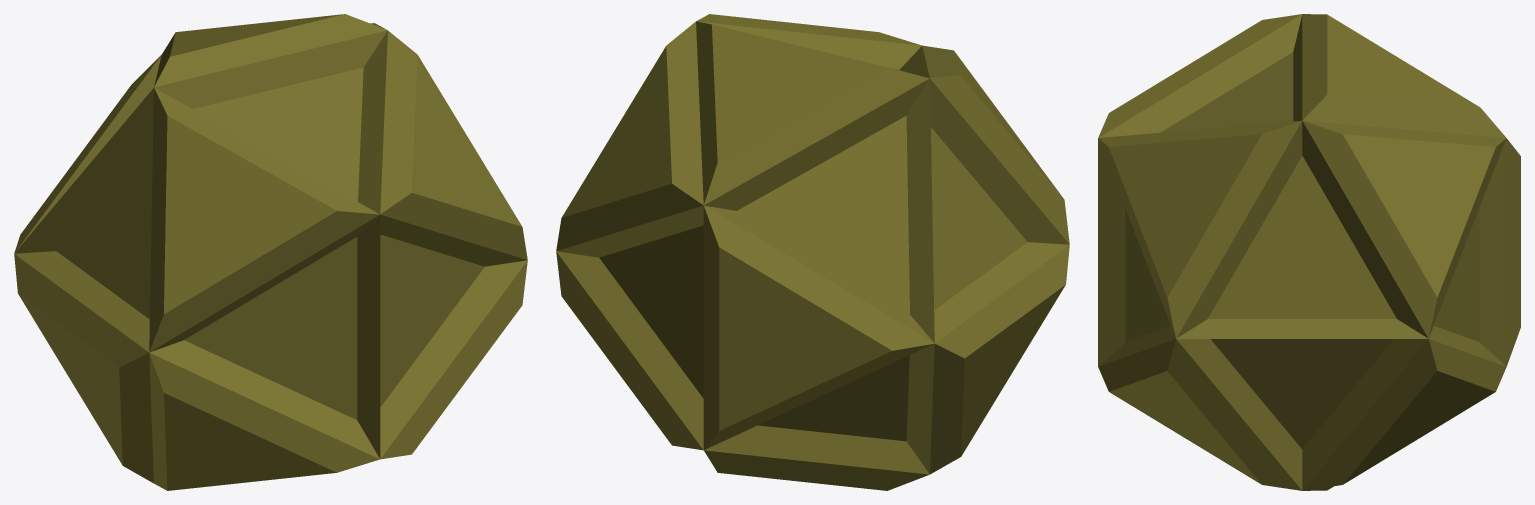
The model's file is boulder_6.fbx.
3 renders of one model, left to right at view 1: azimuth 30°, elevation 25°; view 2: azimuth 150°, elevation 25°; view 3: azimuth 270°, elevation 25°, orthographic. The views are drawn at different scales.
Visible parts, largest first — view 1: pSolid3; view 2: pSolid3; view 3: pSolid3.
Part boxes in pixels (left/top/right/bottom): pSolid3: left=14, top=14, right=527, bottom=490; pSolid3: left=556, top=14, right=1069, bottom=490; pSolid3: left=1098, top=14, right=1520, bottom=490.
Bounding box in the file's own units: 7.64 × 7.89 × 7.64.
